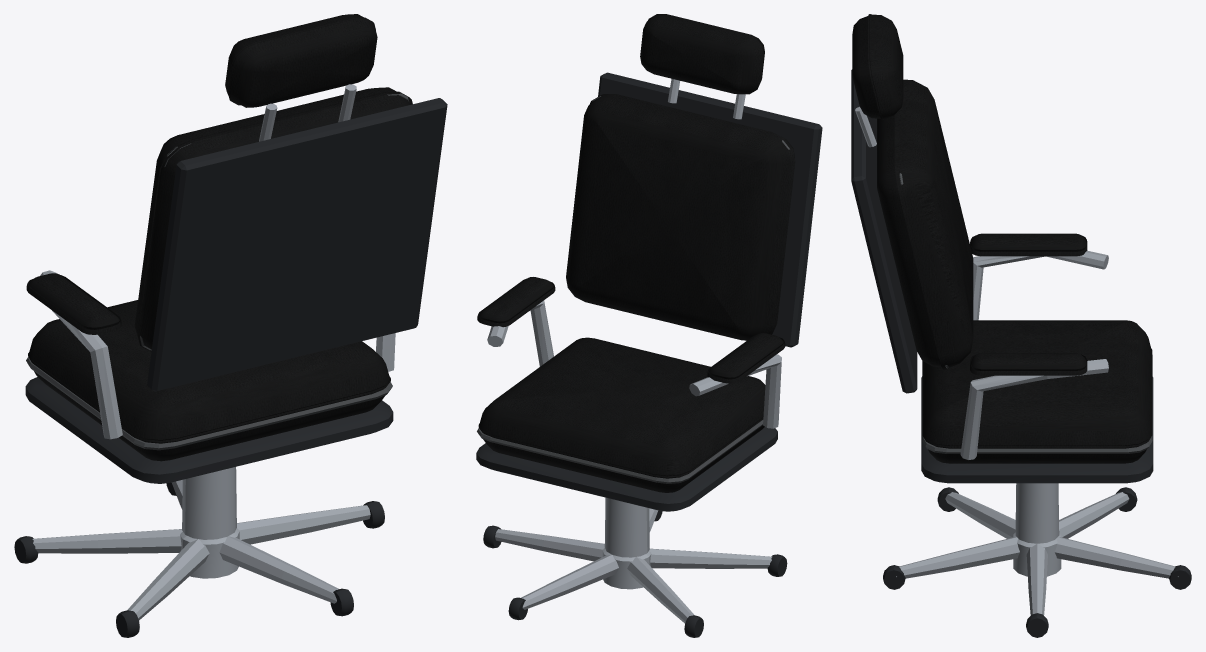
File: executive-chair.glb
The picture shows the model from 3 angles, left to right: view 1: azimuth 30°, elevation 25°; view 2: azimuth 150°, elevation 25°; view 3: azimuth 270°, elevation 25°; orthographic projection. The views are drawn at different scales.
Parts seen in each view (by area): view 1: executive-chair_1, executive-chair_2, executive-chair_0, executive-chair_3; view 2: executive-chair_2, executive-chair_1, executive-chair_0, executive-chair_3; view 3: executive-chair_2, executive-chair_0, executive-chair_1, executive-chair_3.
Part boxes in pixels (left/top/right/bottom): executive-chair_1: left=14, top=98, right=447, bottom=637; executive-chair_2: left=26, top=14, right=412, bottom=461; executive-chair_0: left=32, top=84, right=395, bottom=620; executive-chair_3: left=26, top=92, right=408, bottom=450; executive-chair_2: left=477, top=14, right=795, bottom=492; executive-chair_1: left=476, top=72, right=822, bottom=637; executive-chair_0: left=487, top=78, right=781, bottom=623; executive-chair_3: left=477, top=96, right=789, bottom=483; executive-chair_2: left=852, top=14, right=1152, bottom=463; executive-chair_0: left=855, top=106, right=1178, bottom=615; executive-chair_1: left=851, top=69, right=1191, bottom=637; executive-chair_3: left=899, top=173, right=1152, bottom=453.
Bounding box in the file's own units: 0.68 × 1.2 × 0.7.
Materials: 4 (1 with a texture image).
